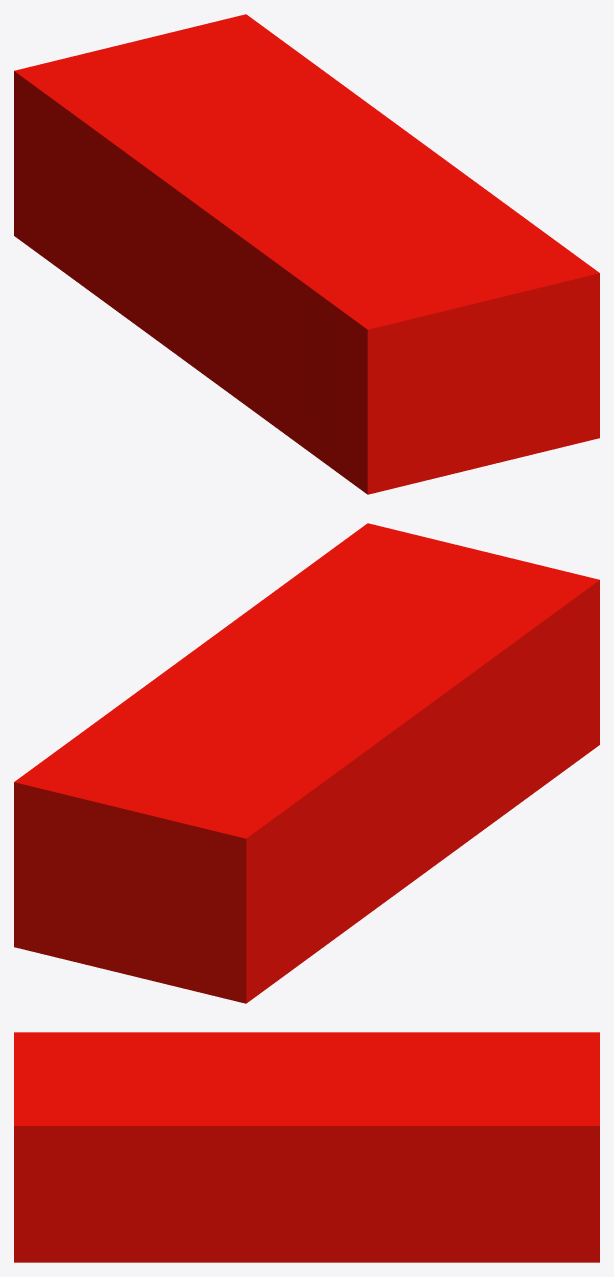
File: car_chassis_hitbox_test.gltf
3 renders of one model, top to bottom at view 1: azimuth 30°, elevation 25°; view 2: azimuth 150°, elevation 25°; view 3: azimuth 270°, elevation 25°, orthographic. The views are drawn at different scales.
Parts seen in each view (by area): view 1: Cube; view 2: Cube; view 3: Cube.
Boxes of the visible parts, box(x1,y1,x2,y2) form: Cube: box(14, 14, 599, 494); Cube: box(14, 523, 599, 1003); Cube: box(14, 1032, 599, 1262).
Size of the model in its own units: 4 by 2.71 by 10.54.
